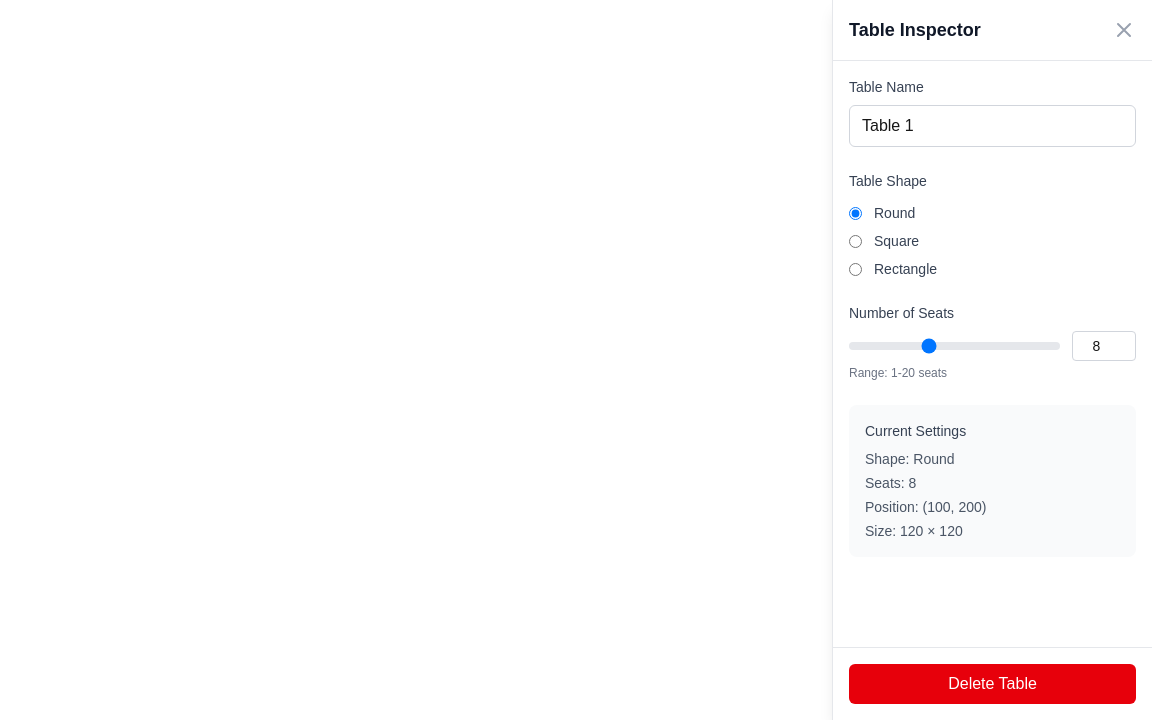
Test: Inspector › delete functionality › should not delete table when cancel is clicked
# Open delete dialog - use getAllByRole to get the specific button (not the heading)
Click the button "Delete Table" at (992, 684), box 849,664 -> 1136,704
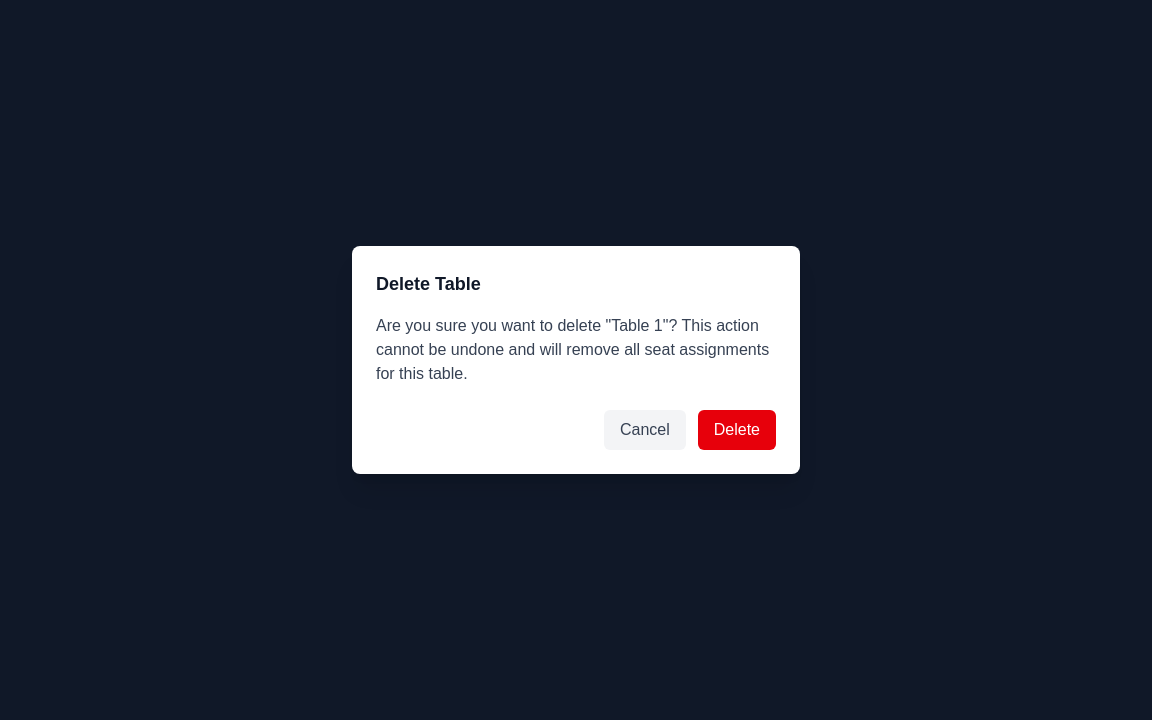
Expected: the dialog is shown, 352,246 -> 800,474
# Click cancel
Click the button "Cancel" at (645, 430), box 604,410 -> 686,450
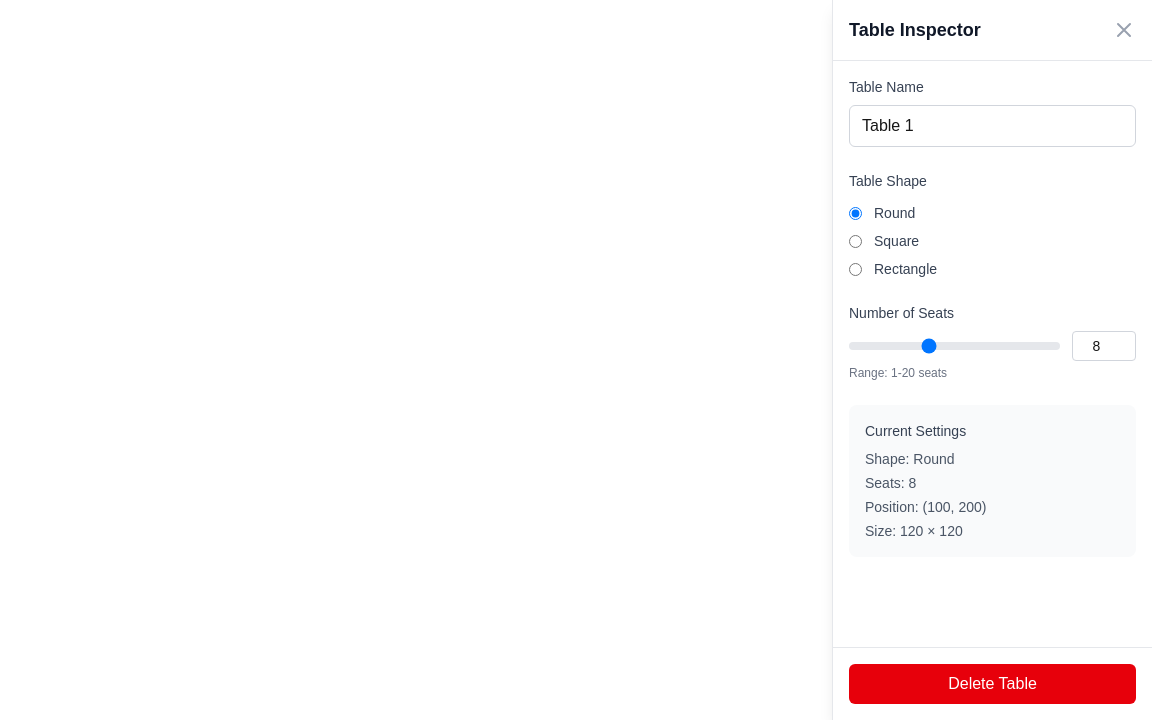
Expected: the dialog is gone
